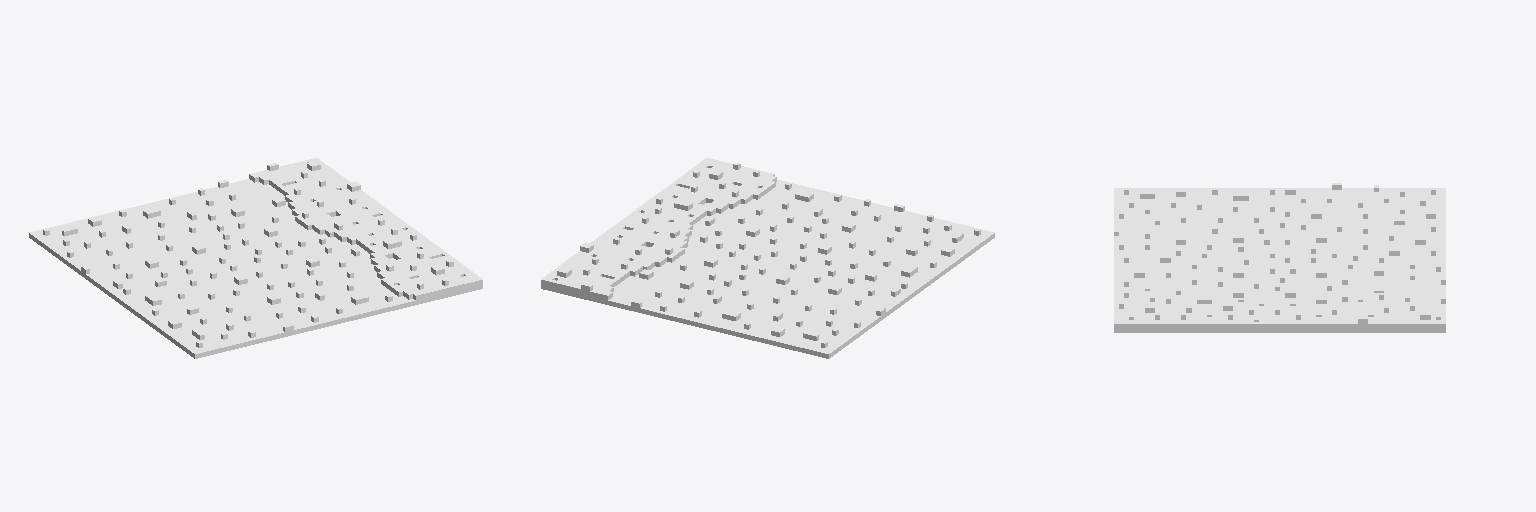
The model's file is EarthPath_2.obj.
3 views of the same model, side by side, from view 1: azimuth 30°, elevation 25°; view 2: azimuth 150°, elevation 25°; view 3: azimuth 270°, elevation 25° (orthographic).
Visible parts, largest first — view 1: EarthPath_2.001; view 2: EarthPath_2.001; view 3: EarthPath_2.001.
Boxes of the visible parts, x1=… form: EarthPath_2.001: x1=29, y1=158, x2=482, y2=358; EarthPath_2.001: x1=541, y1=158, x2=994, y2=358; EarthPath_2.001: x1=1114, y1=183, x2=1445, y2=332.
Bounding box in the file's own units: 1 × 0.0469 × 1.